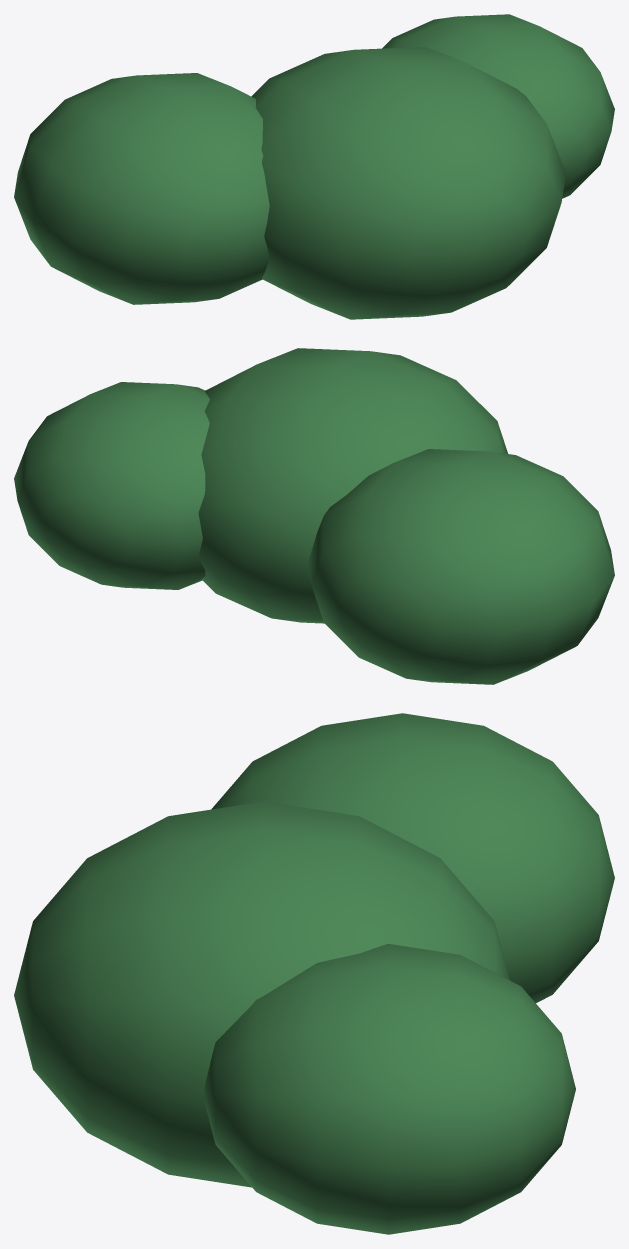
Rendered from bush_cluster.glb.
3 views of the same model, one above another, from view 1: azimuth 30°, elevation 25°; view 2: azimuth 150°, elevation 25°; view 3: azimuth 270°, elevation 25° (orthographic). The views are drawn at different scales.
Parts seen in each view (by area): view 1: bush.001, bush, bush.002; view 2: bush, bush.001, bush.002; view 3: bush.001, bush.002, bush.
Part boxes in pixels (x1,y1,x2,y2): bush.001: [251, 46, 565, 319]; bush: [14, 73, 269, 304]; bush.002: [382, 14, 614, 198]; bush: [308, 449, 614, 684]; bush.001: [198, 348, 507, 623]; bush.002: [14, 382, 209, 589]; bush.001: [14, 801, 509, 1187]; bush.002: [204, 944, 575, 1234]; bush: [211, 713, 614, 1002].
Bounding box in the file's own units: 0.648 × 0.2592 × 0.433.
